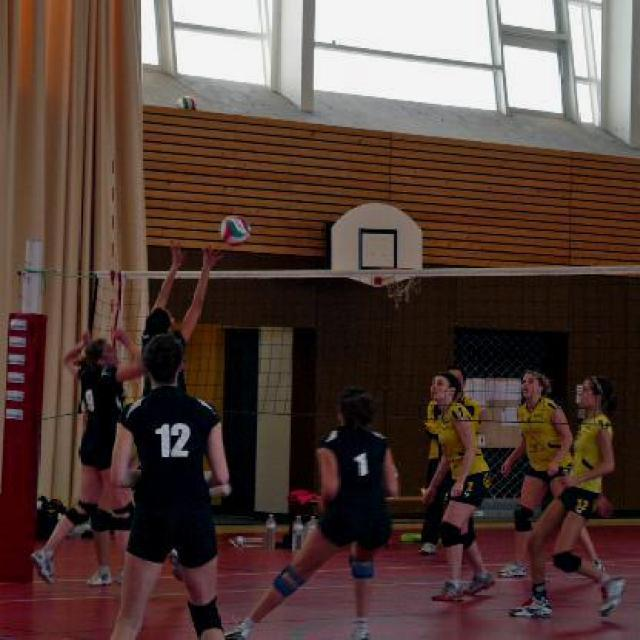volleyball: (220, 216, 250, 246), (176, 96, 197, 111)
